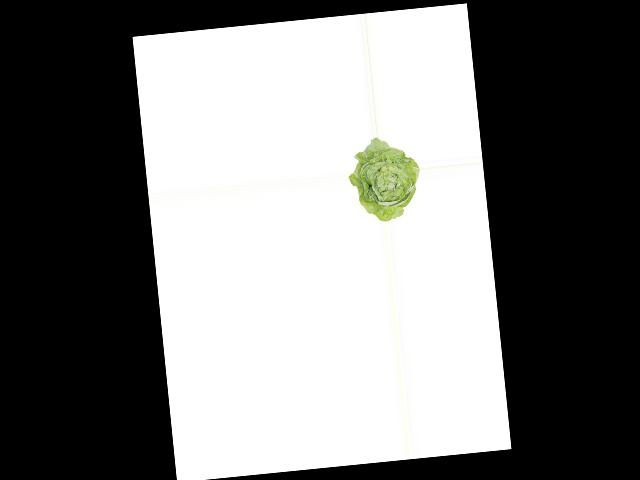lettuce: (345, 136, 423, 225)
